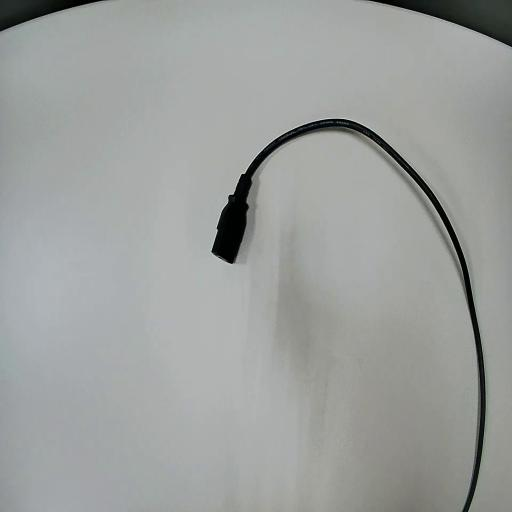wire: (213, 120, 484, 511)
